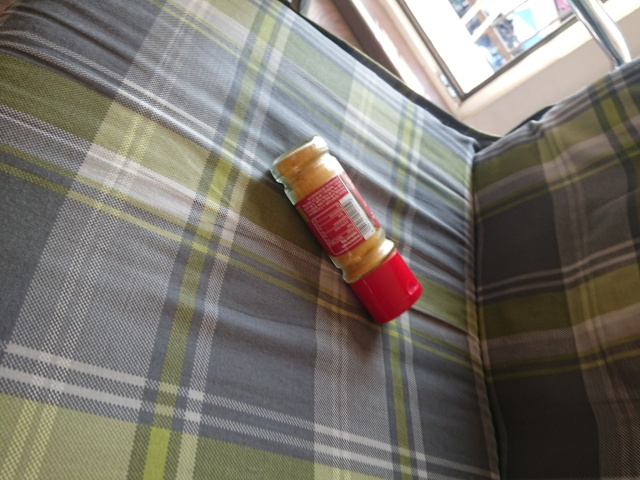Kotanyi Curry Spices Mix 70g: (266, 132, 426, 327)
